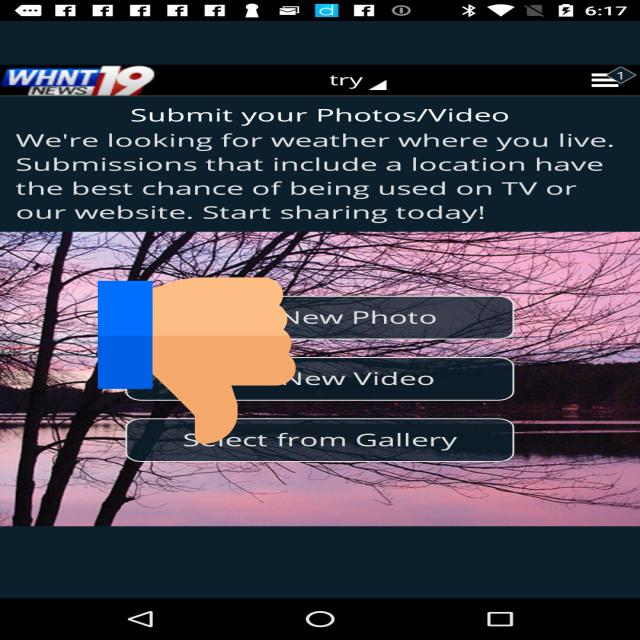obstruction: (97, 273, 296, 448)
